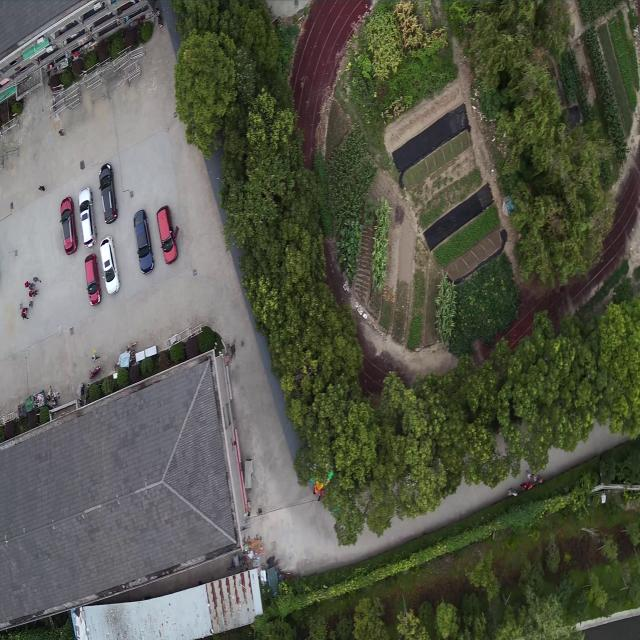UAV: (252, 552, 265, 570)
